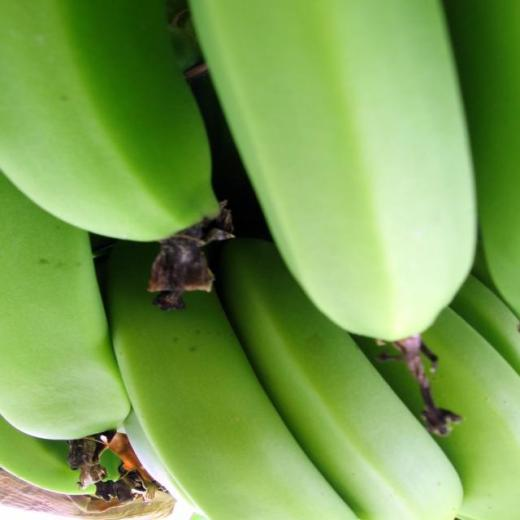Banana: (0, 0, 519, 519), (186, 0, 479, 435)
